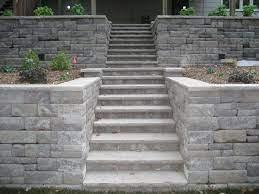Bench: (83, 22, 188, 192)
